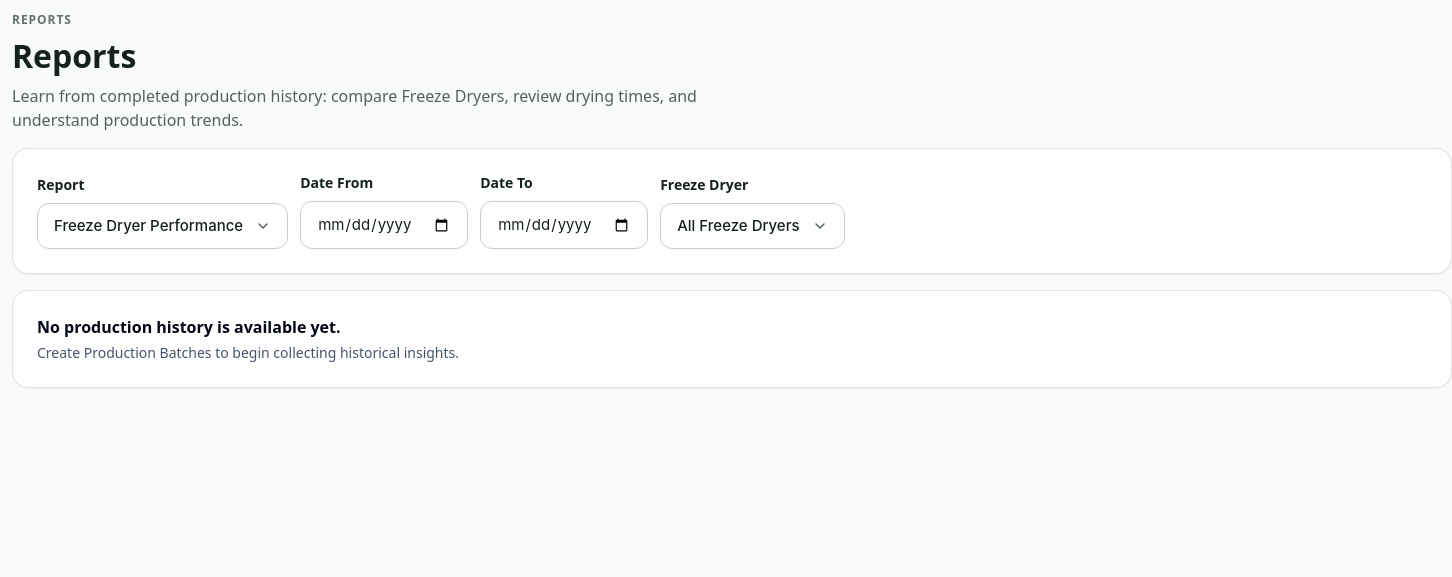
Test: ReportsPage › switches to Preparation History and shows a Tray's-with-no-Preset bucket as its own row
Expected: the text "No production history is available yet." is shown, [37, 316, 341, 338]
Click the dropdown named "Report" at (163, 226), box [37, 203, 288, 249]
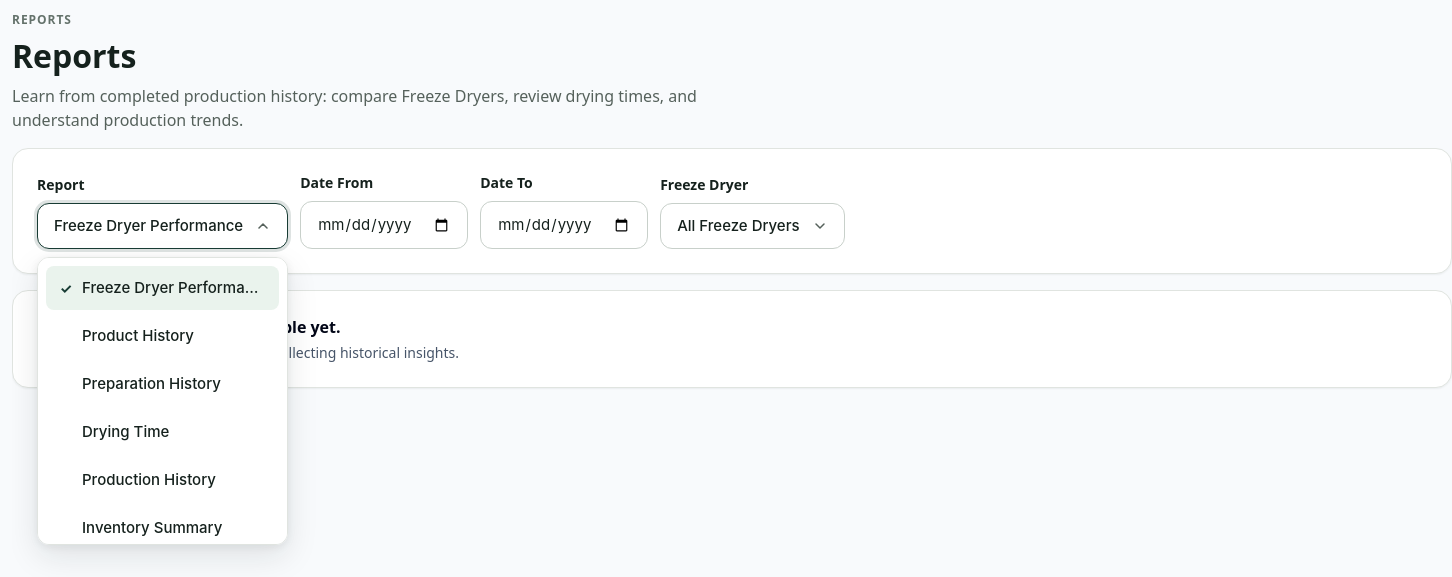
Click the option "Preparation History" at (163, 384), box [46, 362, 279, 406]
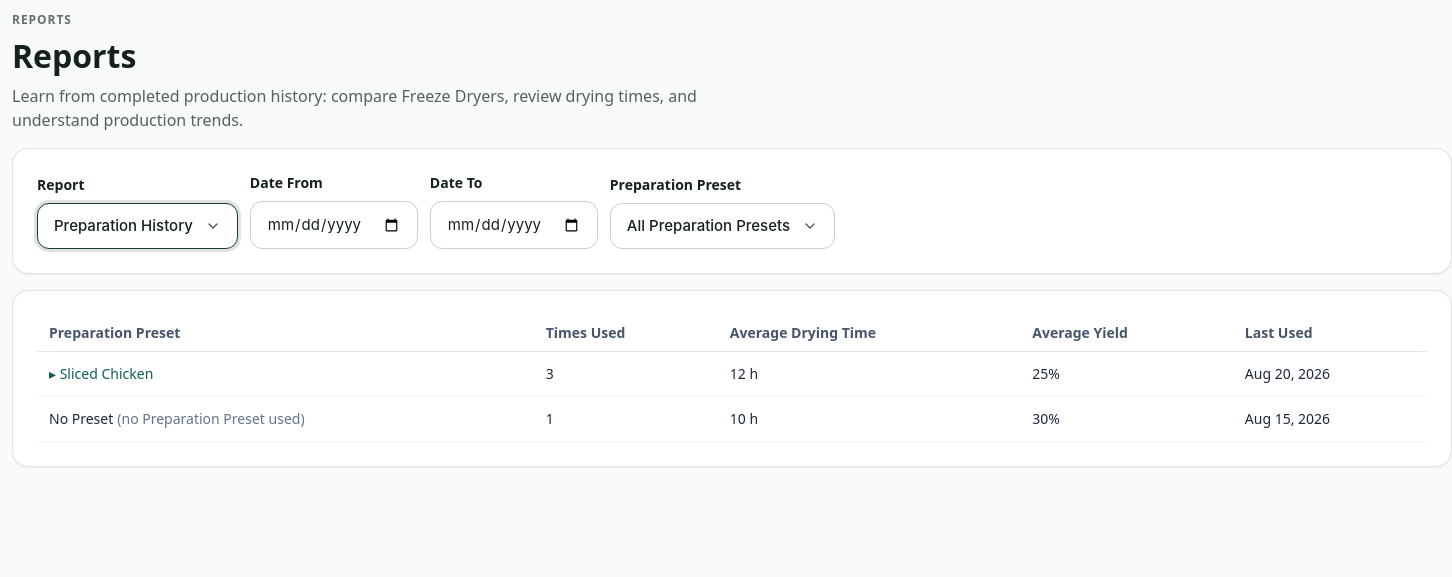
Expected: the button "▸ Sliced Chicken" is shown, [49, 364, 153, 384]
Expected: the row that starts with "No Preset" shows "(no Preparation Preset used)", [117, 409, 305, 428]
Expected: the dropdown labelled "Preparation Preset" is shown, [610, 203, 835, 249]
